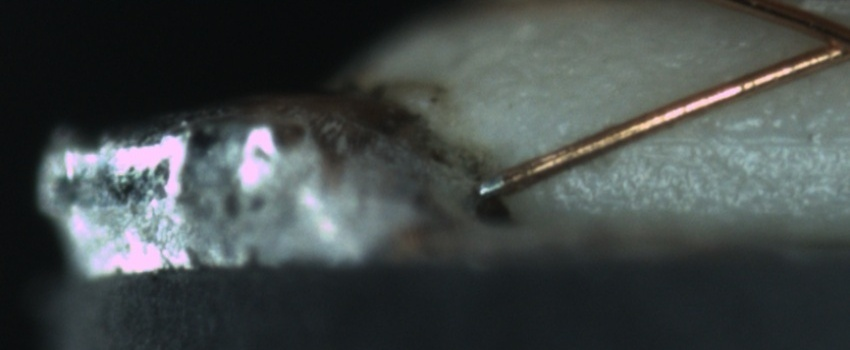CL: (794, 14, 849, 71)
DL: (614, 105, 847, 170)
TS: (477, 172, 508, 199)
